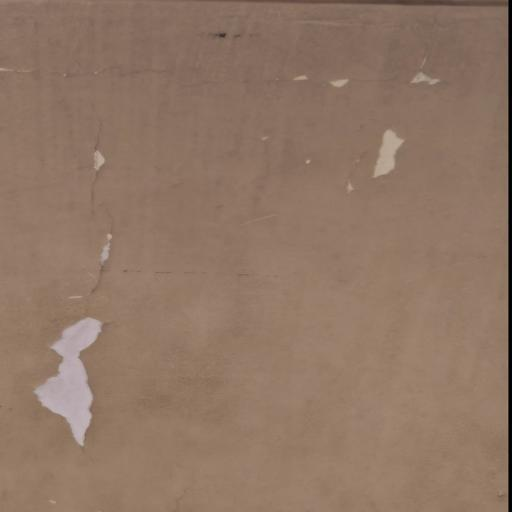peeling: (286, 59, 458, 203), (31, 304, 121, 461), (60, 109, 132, 216), (67, 215, 138, 293)
